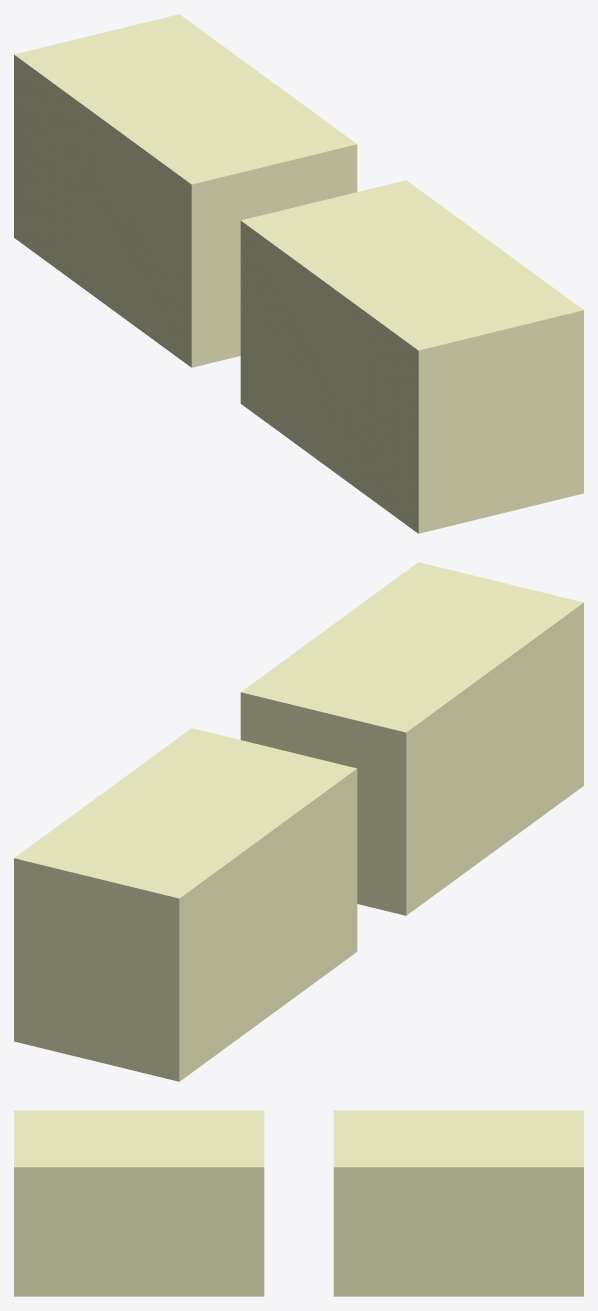
The model's file is POWER ARCHITECTURE__SIMPLIFIED BATT RACKS.glb.
3 renders of one model, top to bottom at view 1: azimuth 30°, elevation 25°; view 2: azimuth 150°, elevation 25°; view 3: azimuth 270°, elevation 25°, orthographic. The views are drawn at different scales.
Visible parts, largest first — view 1: SIMPLIFIED BATT RACKS; view 2: SIMPLIFIED BATT RACKS; view 3: SIMPLIFIED BATT RACKS.
Part boxes in pixels (x1,y1,x2,y2): SIMPLIFIED BATT RACKS: (14, 14, 583, 533); SIMPLIFIED BATT RACKS: (14, 562, 583, 1081); SIMPLIFIED BATT RACKS: (14, 1110, 583, 1296).
Bounding box in the file's own units: 0.5461 × 0.5779 × 2.31.
